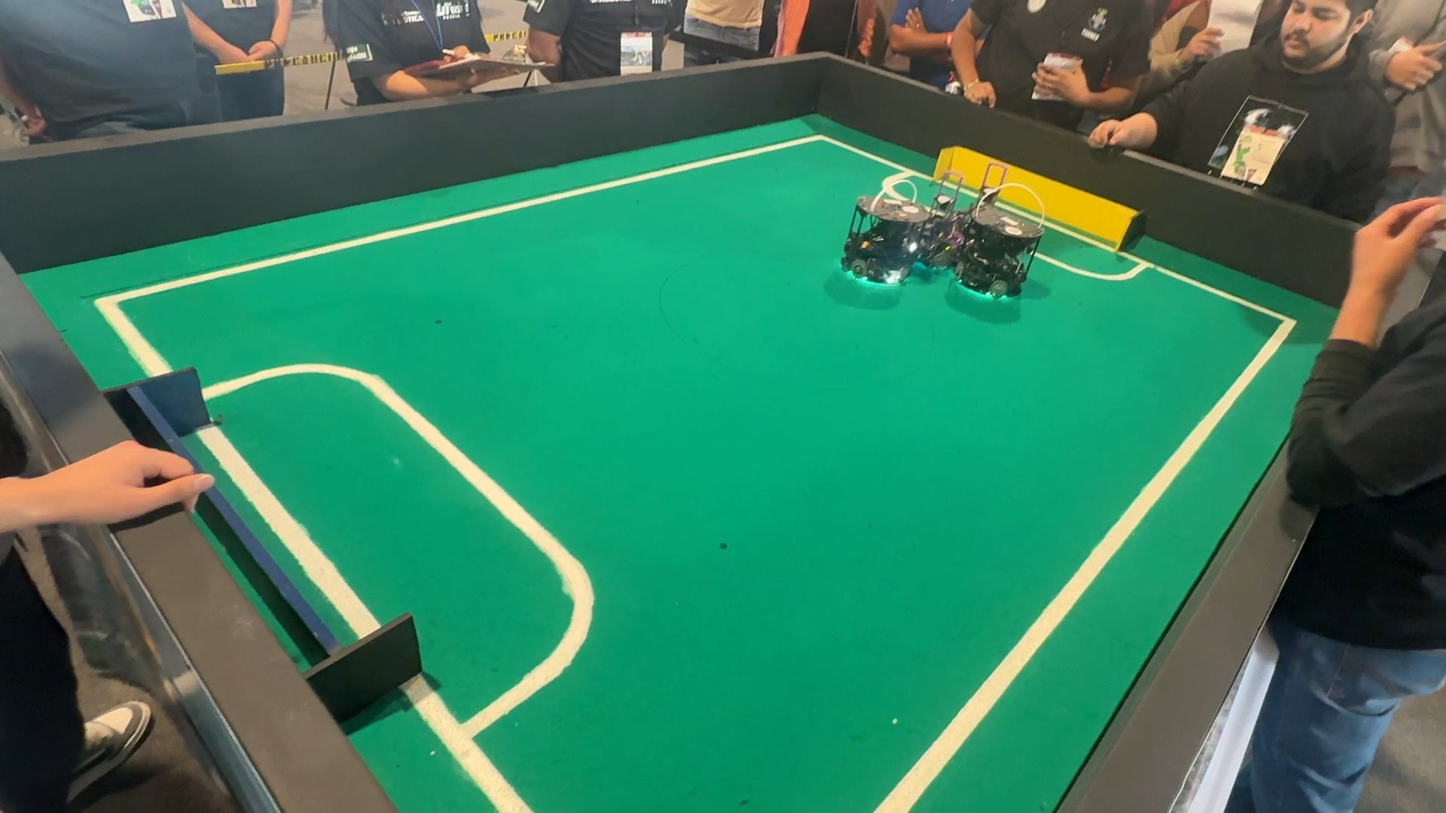Robot: (821, 142, 1060, 322), (941, 148, 1059, 327)
